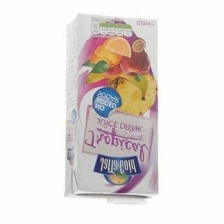carton: (58, 7, 165, 207)
